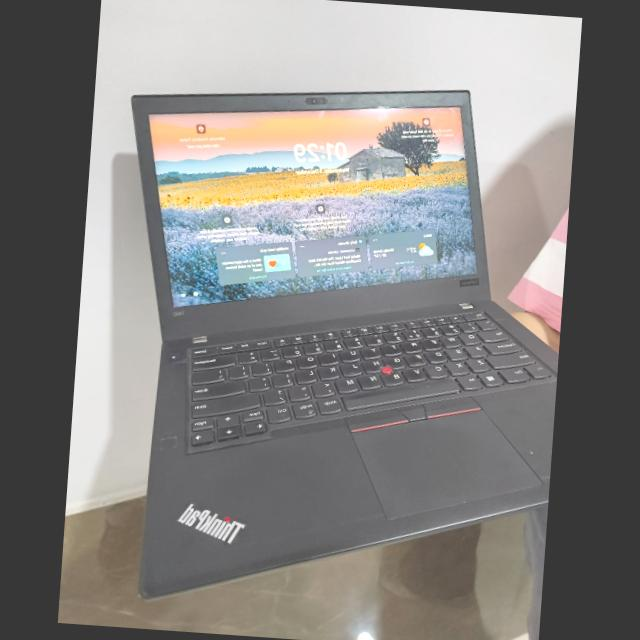laptop: (63, 57, 566, 626)
